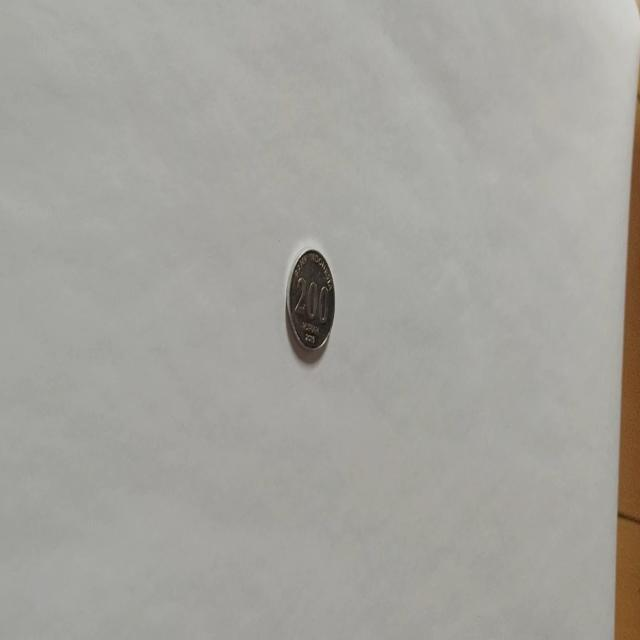dua ratus rupiah: (284, 246, 336, 354)
